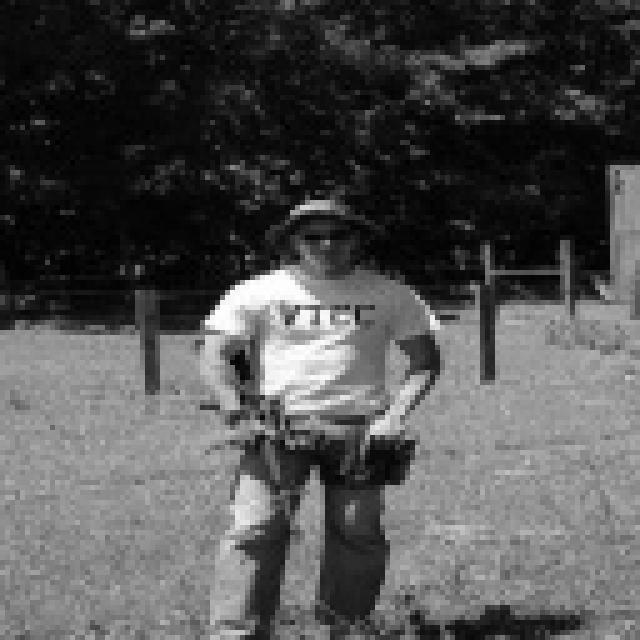Rifle: (174, 327, 353, 558)
